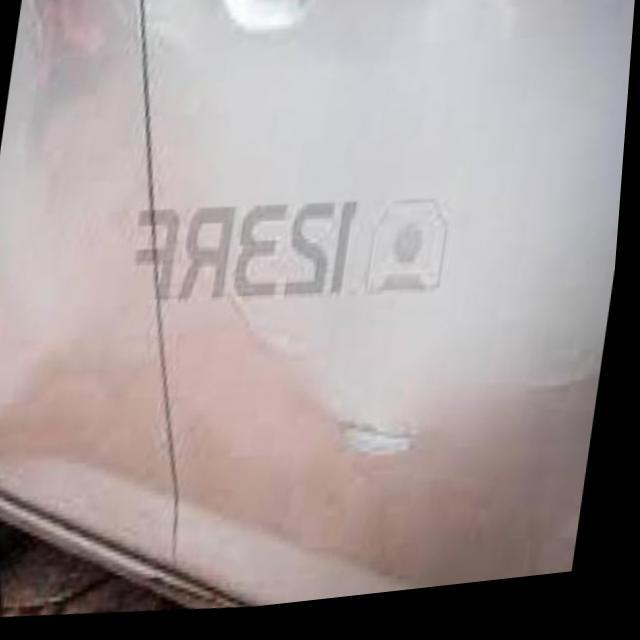dent: (228, 308, 608, 470), (408, 0, 525, 54), (12, 0, 78, 81)
rub: (0, 310, 74, 430)
